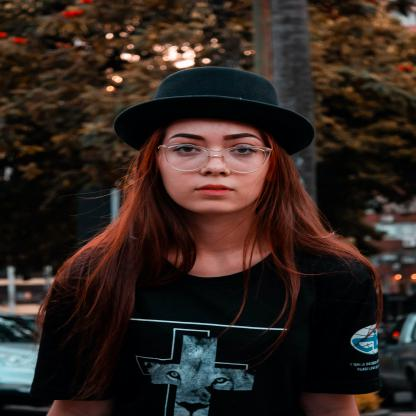Eye: (230, 141, 260, 158), (174, 142, 202, 158)
Mouth: (190, 180, 240, 199)
Nose: (202, 149, 232, 179)
